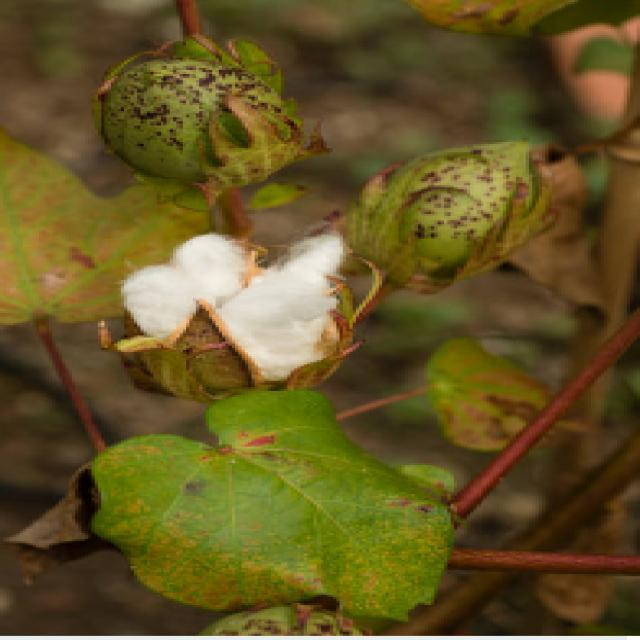Early Boll: (83, 44, 317, 192), (354, 127, 550, 300)
Split Cotton Boll: (110, 232, 366, 399)
